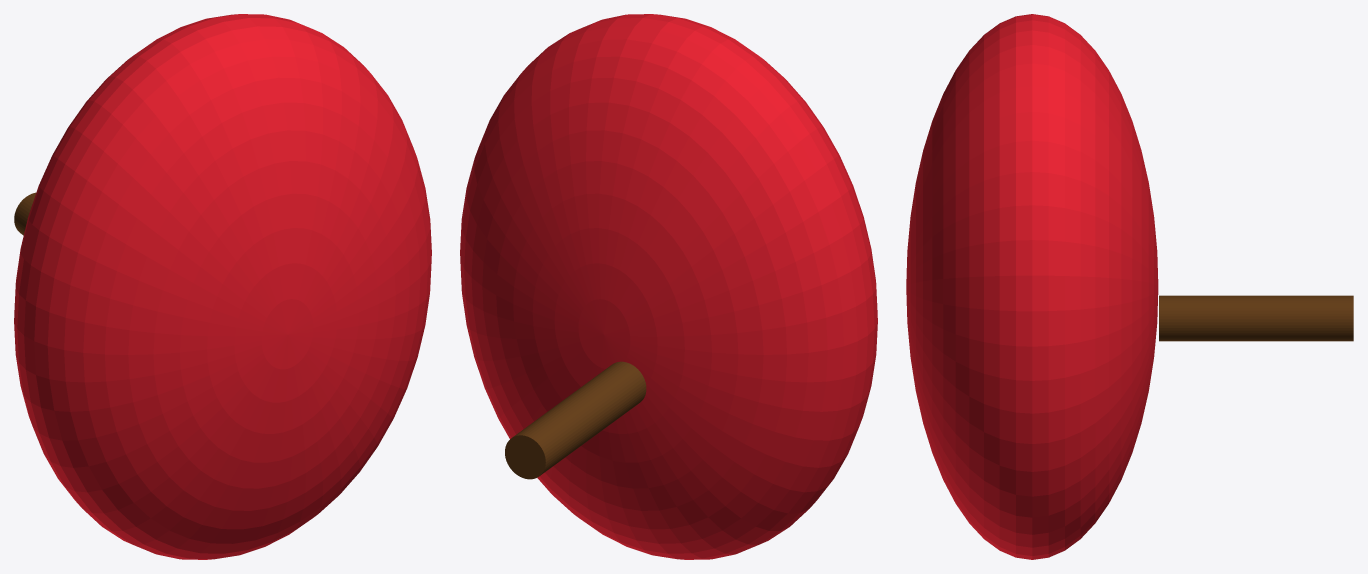
File: TreeOfDismayAndGloom.obj
3 views of the same model, side by side, from view 1: azimuth 30°, elevation 25°; view 2: azimuth 150°, elevation 25°; view 3: azimuth 270°, elevation 25° (orthographic). The views are drawn at different scales.
Parts seen in each view (by area): view 1: obj_1; view 2: obj_1, obj_0; view 3: obj_1, obj_0.
Boxes of the visible parts, x1=… form: obj_1: x1=14, y1=14, x2=431, y2=559; obj_1: x1=460, y1=14, x2=877, y2=559; obj_0: x1=505, y1=361, x2=646, y2=479; obj_1: x1=906, y1=14, x2=1158, y2=559; obj_0: x1=1159, y1=295, x2=1353, y2=341.
Bounding box in the file's own units: 194 × 247 × 195.
